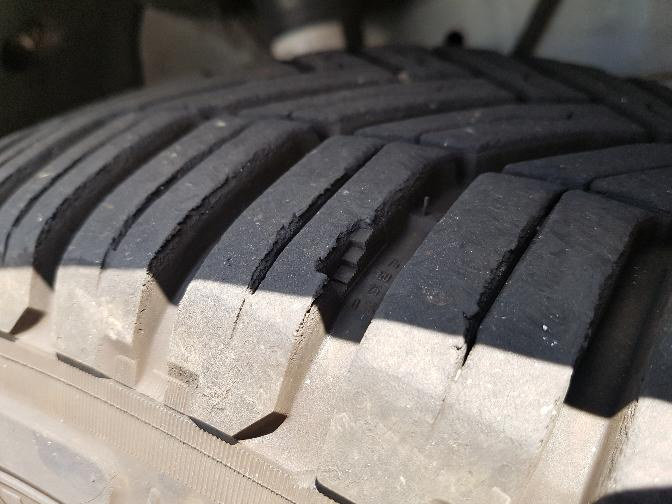temoin:90: (309, 213, 391, 311)
